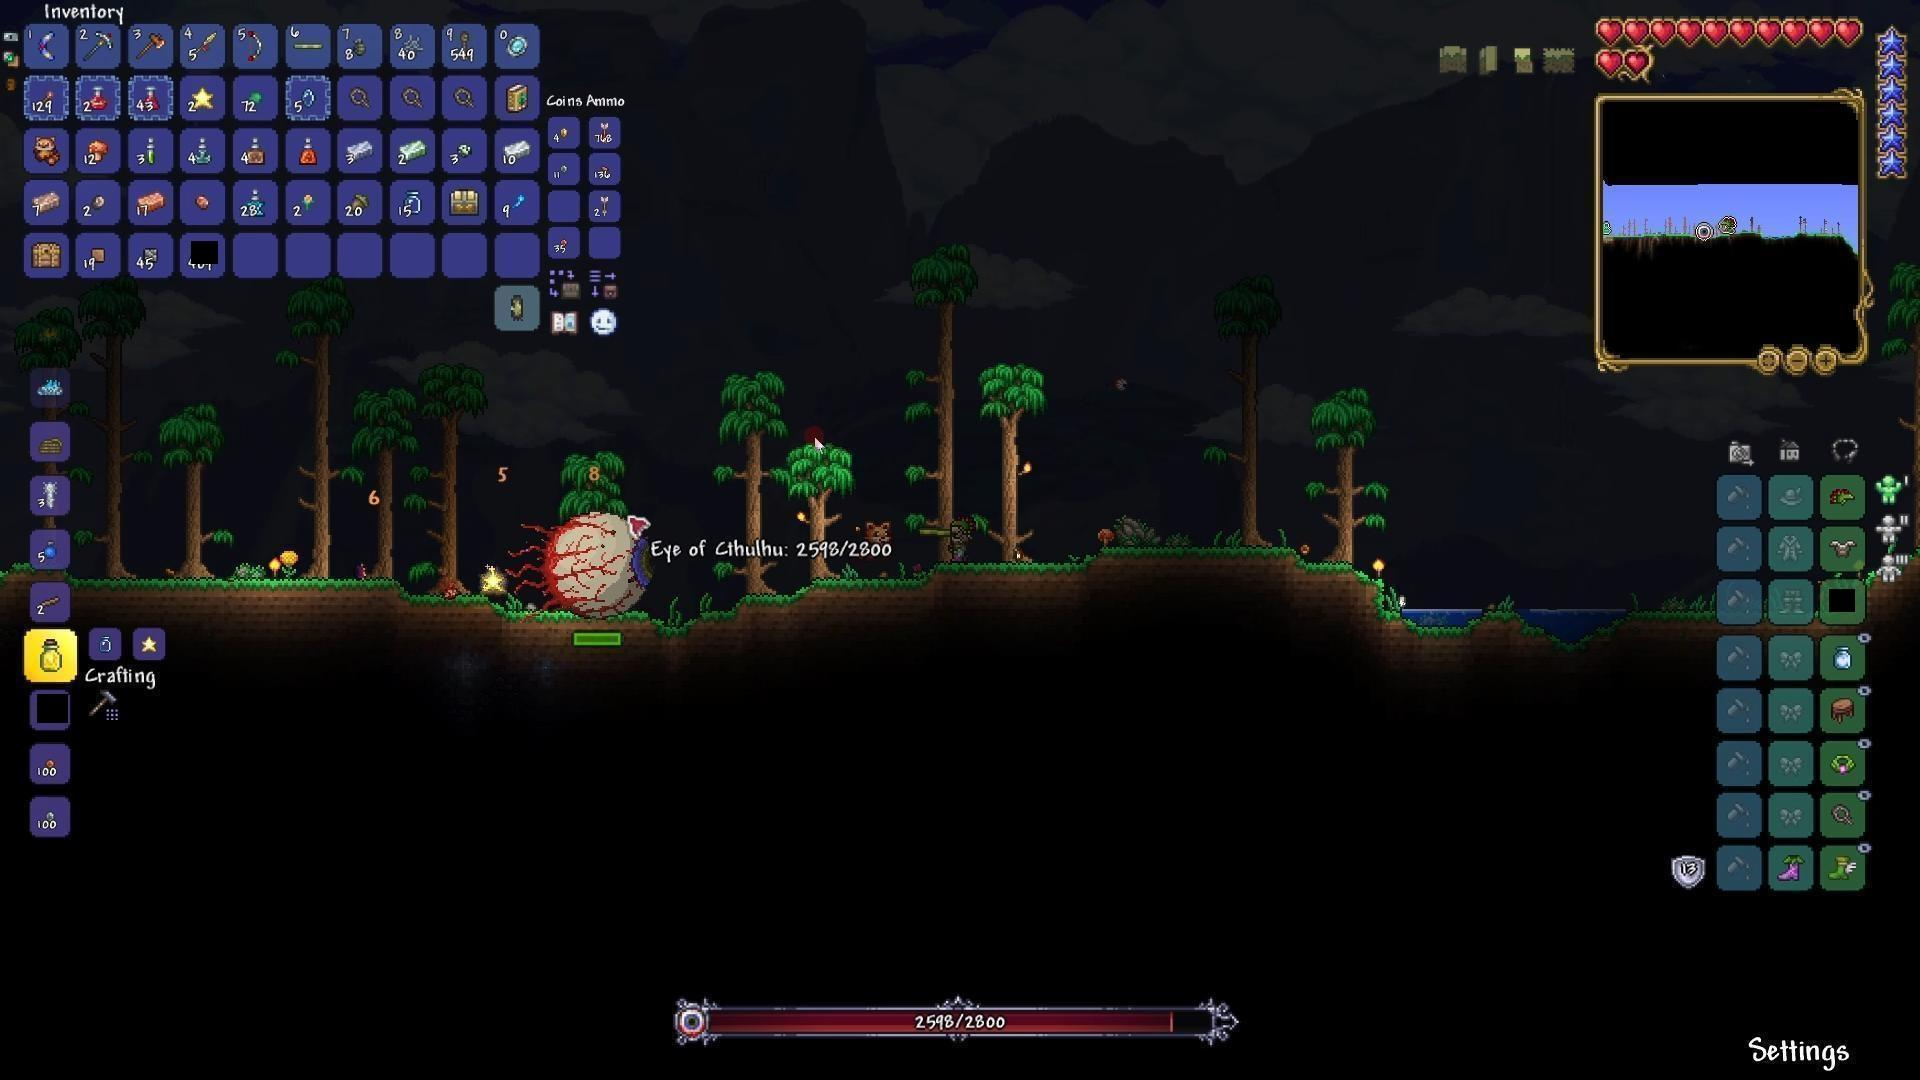breastplate: (1828, 538, 1859, 560)
